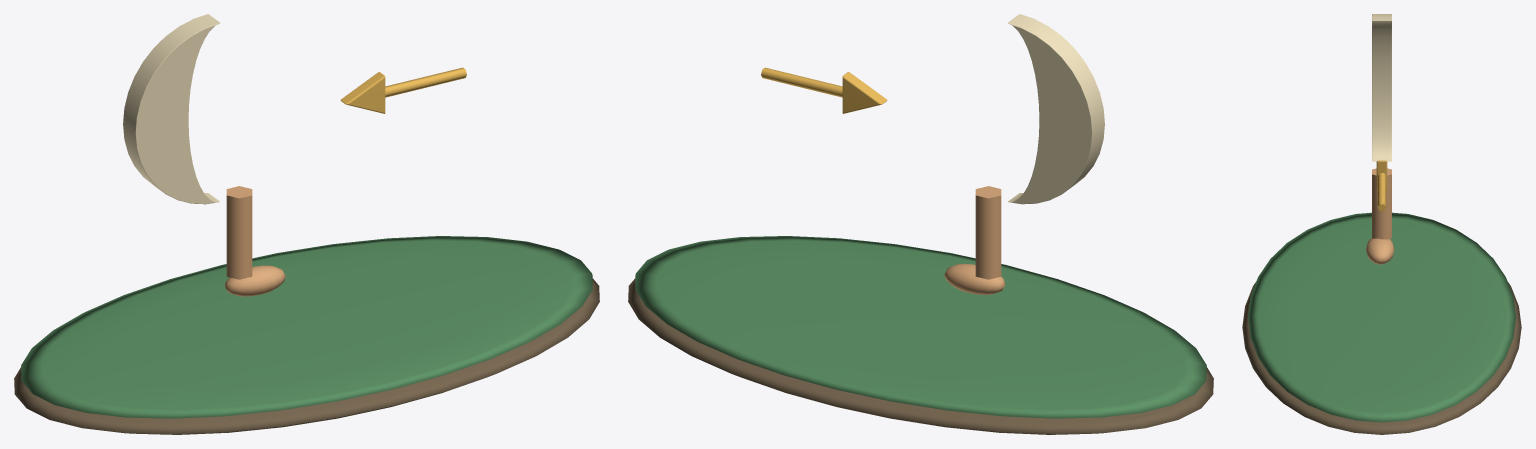
Rendered from moon-foot.glb.
3 views of the same model, side by side, from view 1: azimuth 30°, elevation 25°; view 2: azimuth 150°, elevation 25°; view 3: azimuth 270°, elevation 25° (orthographic). The views are drawn at different scales.
Visible parts, largest first — view 1: moon-foot_surface_01, moon-foot_surface_00, moon-foot_surface_02, moon-foot_surface_04, moon-foot_surface_03; view 2: moon-foot_surface_01, moon-foot_surface_00, moon-foot_surface_02, moon-foot_surface_04, moon-foot_surface_03; view 3: moon-foot_surface_01, moon-foot_surface_00, moon-foot_surface_02, moon-foot_surface_04, moon-foot_surface_03.
Boxes of the visible parts, left/top/right/bottom form: moon-foot_surface_01: left=21, top=236, right=592, bottom=418; moon-foot_surface_00: left=14, top=278, right=599, bottom=434; moon-foot_surface_02: left=123, top=14, right=219, bottom=204; moon-foot_surface_04: left=224, top=186, right=285, bottom=296; moon-foot_surface_03: left=340, top=67, right=466, bottom=113; moon-foot_surface_01: left=635, top=236, right=1206, bottom=418; moon-foot_surface_00: left=628, top=278, right=1213, bottom=434; moon-foot_surface_02: left=1008, top=14, right=1104, bottom=204; moon-foot_surface_04: left=944, top=186, right=1005, bottom=294; moon-foot_surface_03: left=761, top=67, right=887, bottom=113; moon-foot_surface_01: left=1248, top=212, right=1515, bottom=422; moon-foot_surface_00: left=1242, top=281, right=1521, bottom=434; moon-foot_surface_02: left=1372, top=14, right=1391, bottom=161; moon-foot_surface_04: left=1366, top=168, right=1394, bottom=264; moon-foot_surface_03: left=1376, top=160, right=1387, bottom=210.
Size of the model in its own units: 4.56 by 2.81 by 2.5.
